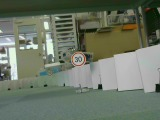speed_30: (69, 51, 87, 68)
